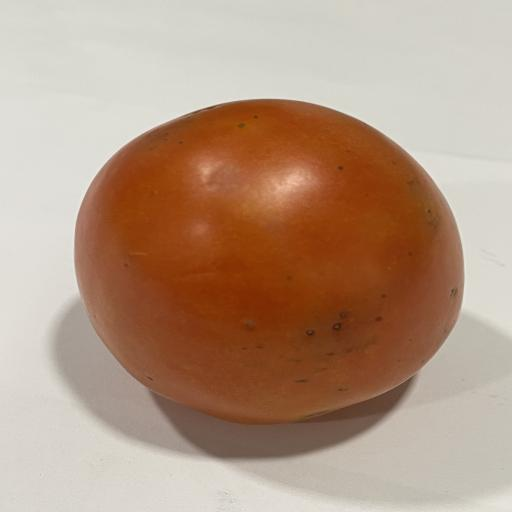unripe: (75, 100, 464, 424)
